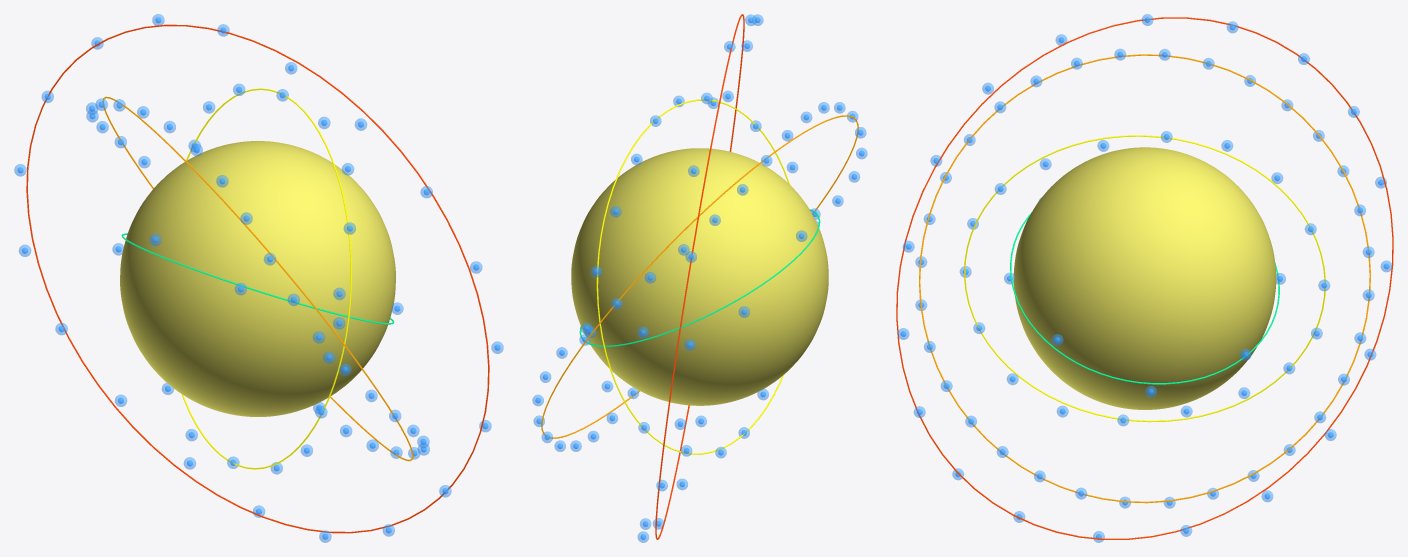
The picture shows the model from 3 angles, left to right: view 1: azimuth 30°, elevation 25°; view 2: azimuth 150°, elevation 25°; view 3: azimuth 270°, elevation 25°; orthographic projection. The views are drawn at different scales.
Parts seen in each view (by area): view 1: Au, object 126, object 61, object 24, object 7; view 2: Au, object 126, object 24, object 61, object 7; view 3: Au, object 126, object 61, object 24, object 7.
Boxes of the visible parts, box(x1,y1,x2,y2) form: Au: box(120, 141, 395, 416); object 126: box(26, 24, 489, 533); object 61: box(102, 96, 413, 461); object 24: box(181, 88, 351, 469); object 7: box(121, 233, 394, 324); Au: box(571, 148, 828, 405); object 126: box(655, 14, 744, 539); object 24: box(596, 99, 789, 454); object 61: box(541, 115, 858, 438); object 7: box(579, 209, 820, 346); Au: box(1013, 147, 1276, 409); object 126: box(896, 17, 1393, 539); object 61: box(919, 54, 1370, 503); object 24: box(964, 135, 1325, 422); object 7: box(1010, 212, 1279, 384).
Size of the model in its own units: 3.49 by 7.27 by 6.61.
